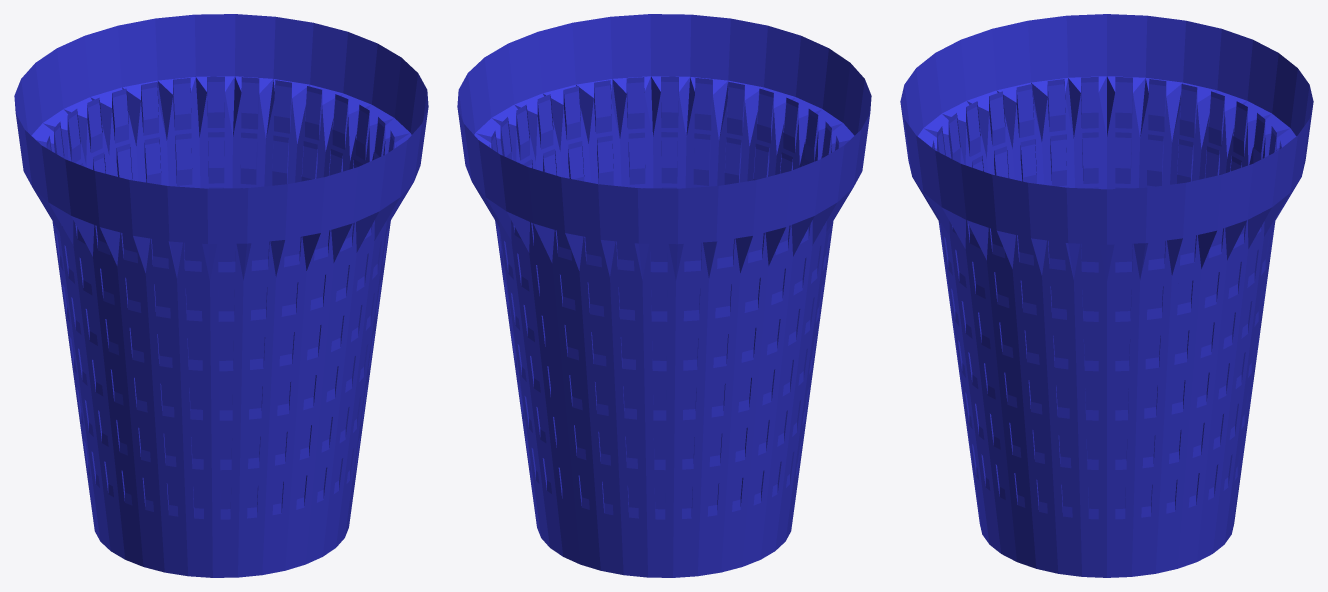
3 views of the same model, side by side, from view 1: azimuth 30°, elevation 25°; view 2: azimuth 150°, elevation 25°; view 3: azimuth 270°, elevation 25° (orthographic).
Parts seen in each view (by area): view 1: Cylinder; view 2: Cylinder; view 3: Cylinder.
Boxes of the visible parts, bbox=[...] form: Cylinder: bbox=[14, 14, 428, 577]; Cylinder: bbox=[457, 14, 871, 577]; Cylinder: bbox=[900, 14, 1313, 577].
Bounding box in the file's own units: 0.5956 × 0.593 × 0.6686.
